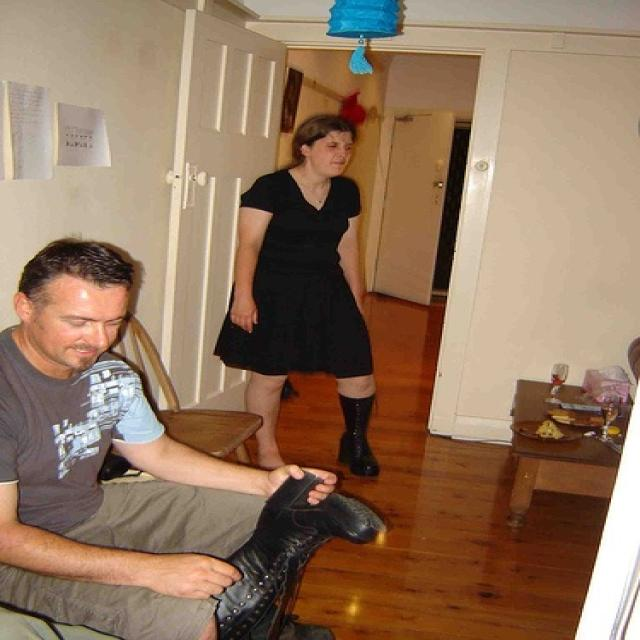chair: (101, 304, 268, 468)
